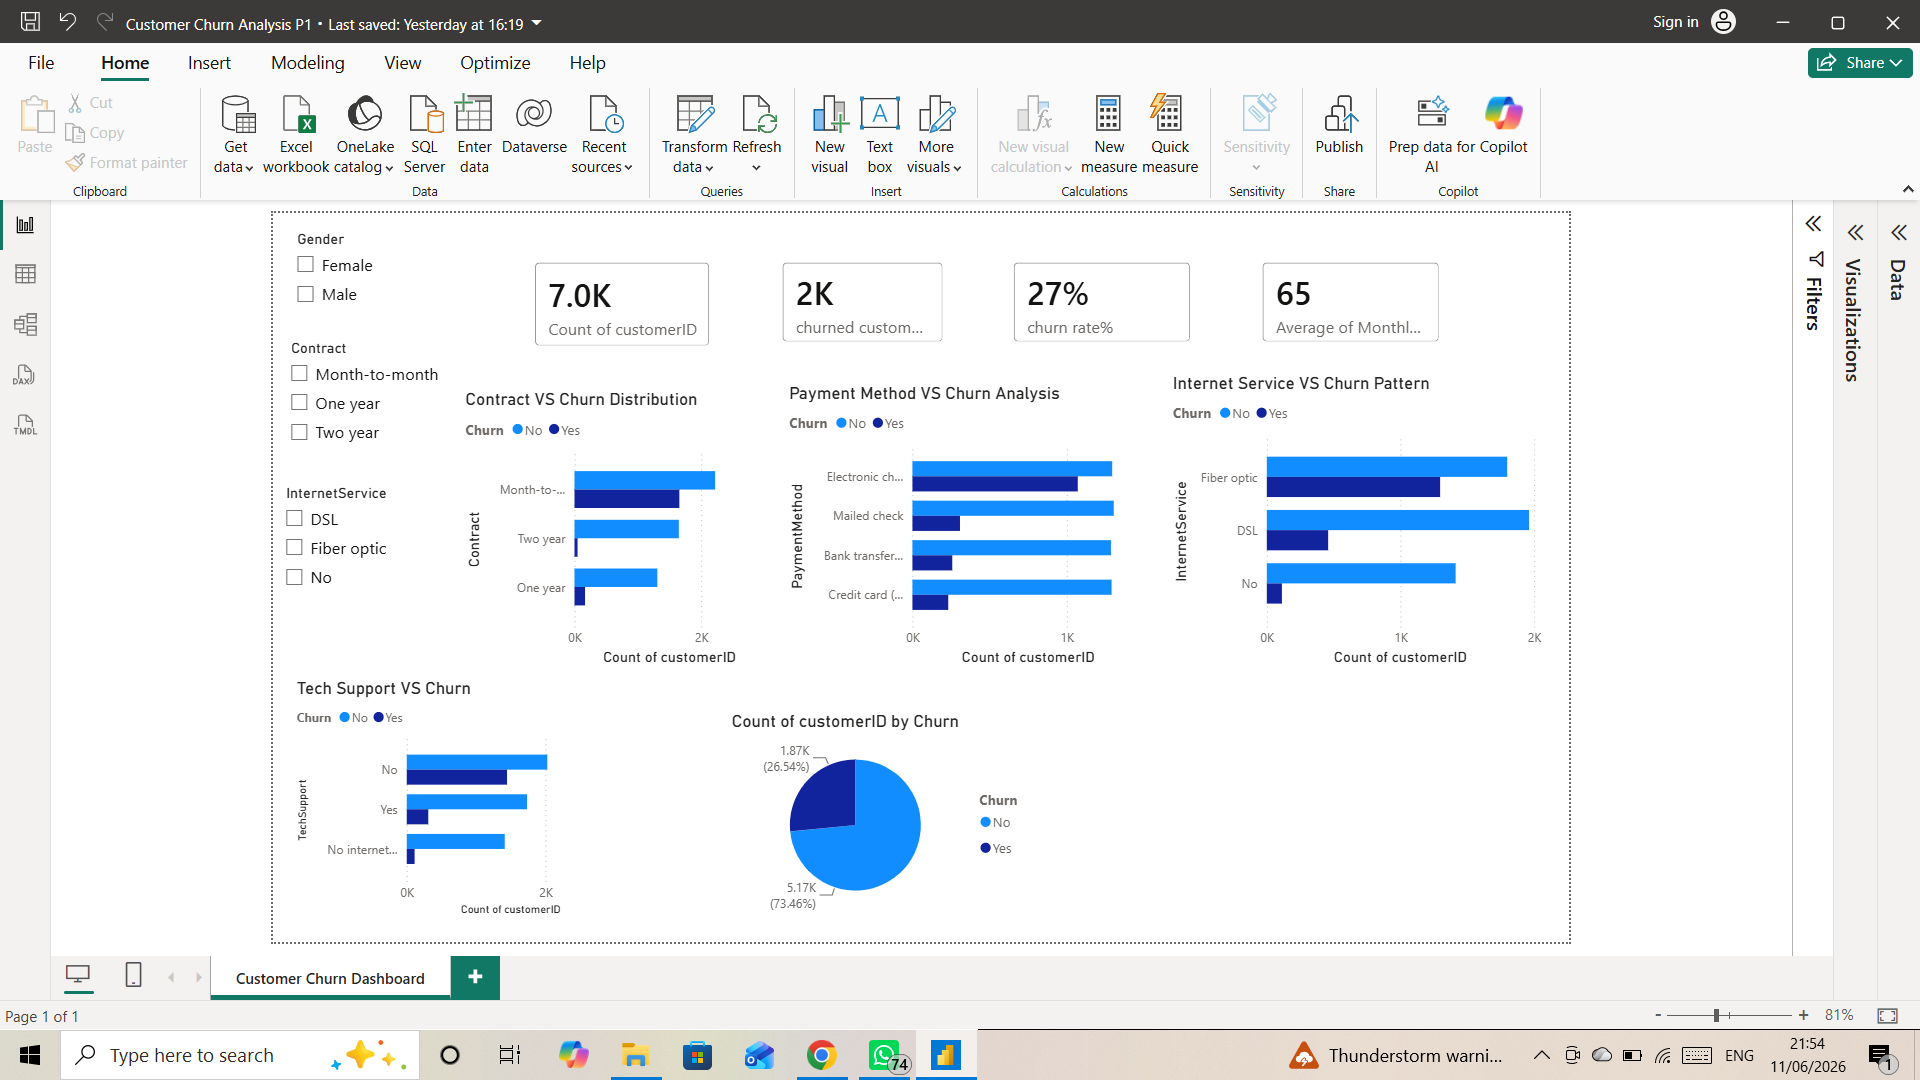

The dashboard page shown, as its layout file describes it:
{"tool":"powerbi","page":{"name":"Page 1","canvas":[1280,720],"ordinal":0},"visuals":[{"type":"cardVisual","fields":{"Data":["CountNonNull(cleaned_churn.customerID)"]},"box":[242.5,32,206.2,116.2],"z":0},{"type":"cardVisual","fields":{"Data":["cleaned_churn.churned customers"]},"box":[485.8,32,192,112],"z":1},{"type":"cardVisual","fields":{"Data":["cleaned_churn.churn rate%"]},"box":[714.9,32,208,112],"z":2},{"type":"cardVisual","fields":{"Data":["Avg(cleaned_churn.MonthlyCharges)"]},"box":[960,32,208,112],"z":3},{"type":"clusteredBarChart","title":"Contract VS Churn Distribution","fields":{"Category":["cleaned_churn.Contract"],"Y":["CountNonNull(cleaned_churn.customerID)"],"Series":["cleaned_churn.Churn"]},"box":[185,173.8,312.5,277.5],"z":4},{"type":"clusteredBarChart","title":" Payment Method VS Churn Analysis","fields":{"Category":["cleaned_churn.PaymentMethod"],"Y":["CountNonNull(cleaned_churn.customerID)"],"Series":["cleaned_churn.Churn"]},"box":[505,167.5,367.5,283.8],"z":5},{"type":"clusteredBarChart","title":"Internet Service VS Churn Pattern","fields":{"Series":["cleaned_churn.Churn"],"Y":["CountNonNull(cleaned_churn.customerID)"],"Category":["cleaned_churn.InternetService"]},"box":[883.8,157.5,373.8,293.8],"z":6},{"type":"clusteredBarChart","title":"Tech Support VS Churn","fields":{"Category":["cleaned_churn.TechSupport"],"Y":["CountNonNull(cleaned_churn.customerID)"],"Series":["cleaned_churn.Churn"]},"box":[18.8,458.8,331.2,240],"z":7},{"type":"pieChart","fields":{"Category":["cleaned_churn.Churn"],"Y":["CountNonNull(cleaned_churn.customerID)"]},"box":[448.8,491.2,312.5,207.5],"z":8},{"type":"slicer","fields":{"Values":["cleaned_churn.gender"]},"box":[11.2,12.5,171.2,107.5],"z":9},{"type":"slicer","fields":{"Values":["cleaned_churn.Contract"]},"box":[5,120,171.2,136.2],"z":10},{"type":"slicer","fields":{"Values":["cleaned_churn.InternetService"]},"box":[0,262.5,182.5,130],"z":11}]}

Visuals, with their boxes on the page's 1280x720 design canvas (x1, y1, x2, y2). These are canvas units, not pixel positions in the 1920x1080 screenshot, which may show the page scaled, cropped or inside an application window:
cardVisual - CountNonNull(cleaned_churn.customerID): box=[242, 32, 449, 148]
cardVisual - cleaned_churn.churned customers: box=[486, 32, 678, 144]
cardVisual - cleaned_churn.churn rate%: box=[715, 32, 923, 144]
cardVisual - Avg(cleaned_churn.MonthlyCharges): box=[960, 32, 1168, 144]
"Contract VS Churn Distribution" clusteredBarChart: box=[185, 174, 498, 451]
" Payment Method VS Churn Analysis" clusteredBarChart: box=[505, 168, 872, 451]
"Internet Service VS Churn Pattern" clusteredBarChart: box=[884, 158, 1258, 451]
"Tech Support VS Churn" clusteredBarChart: box=[19, 459, 350, 699]
pieChart - cleaned_churn.Churn x CountNonNull(cleaned_churn.customerID): box=[449, 491, 761, 699]
slicer - cleaned_churn.gender: box=[11, 12, 182, 120]
slicer - cleaned_churn.Contract: box=[5, 120, 176, 256]
slicer - cleaned_churn.InternetService: box=[0, 262, 182, 392]
